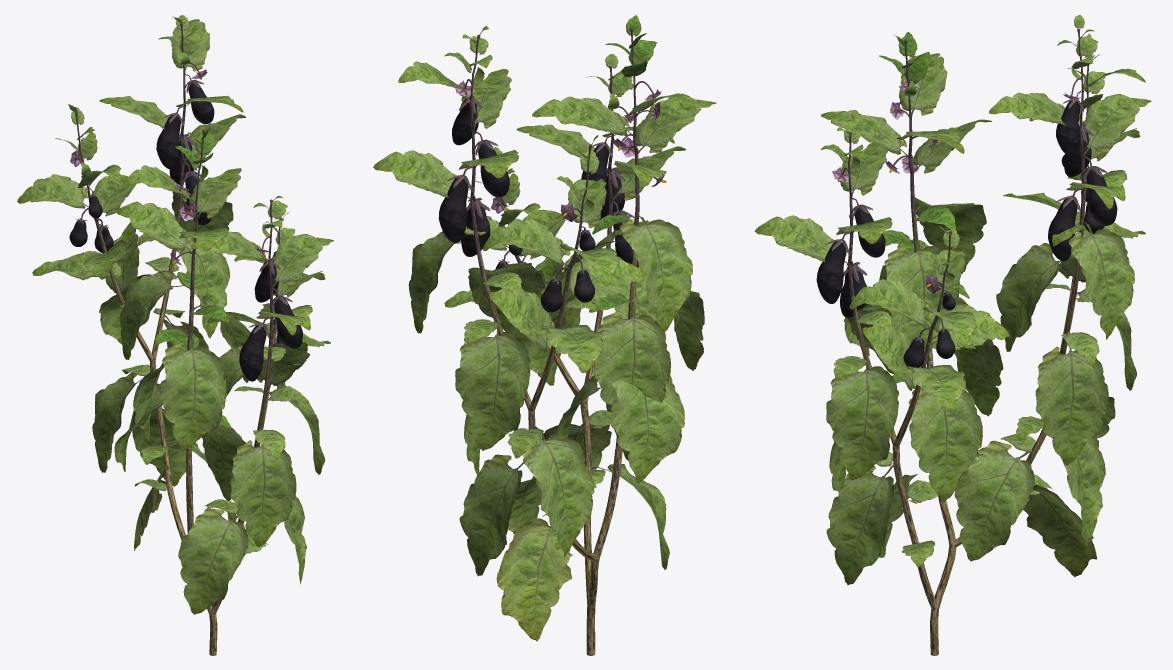
3 renders of one model, left to right at view 1: azimuth 30°, elevation 25°; view 2: azimuth 150°, elevation 25°; view 3: azimuth 270°, elevation 25°, orthographic. The views are drawn at different scales.
Parts seen in each view (by area): view 1: VG19_9; view 2: VG19_9; view 3: VG19_9.
Boxes of the visible parts, left/top/right/bottom form: VG19_9: left=17, top=15, right=333, bottom=655; VG19_9: left=373, top=15, right=716, bottom=655; VG19_9: left=754, top=15, right=1151, bottom=655.
Bounding box in the file's own units: 0.469 × 1.06 × 0.6033.
10 materials, 10 textured.
